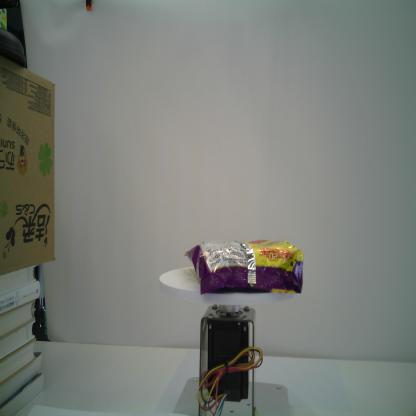Instant Noodles: (184, 235, 304, 300)
